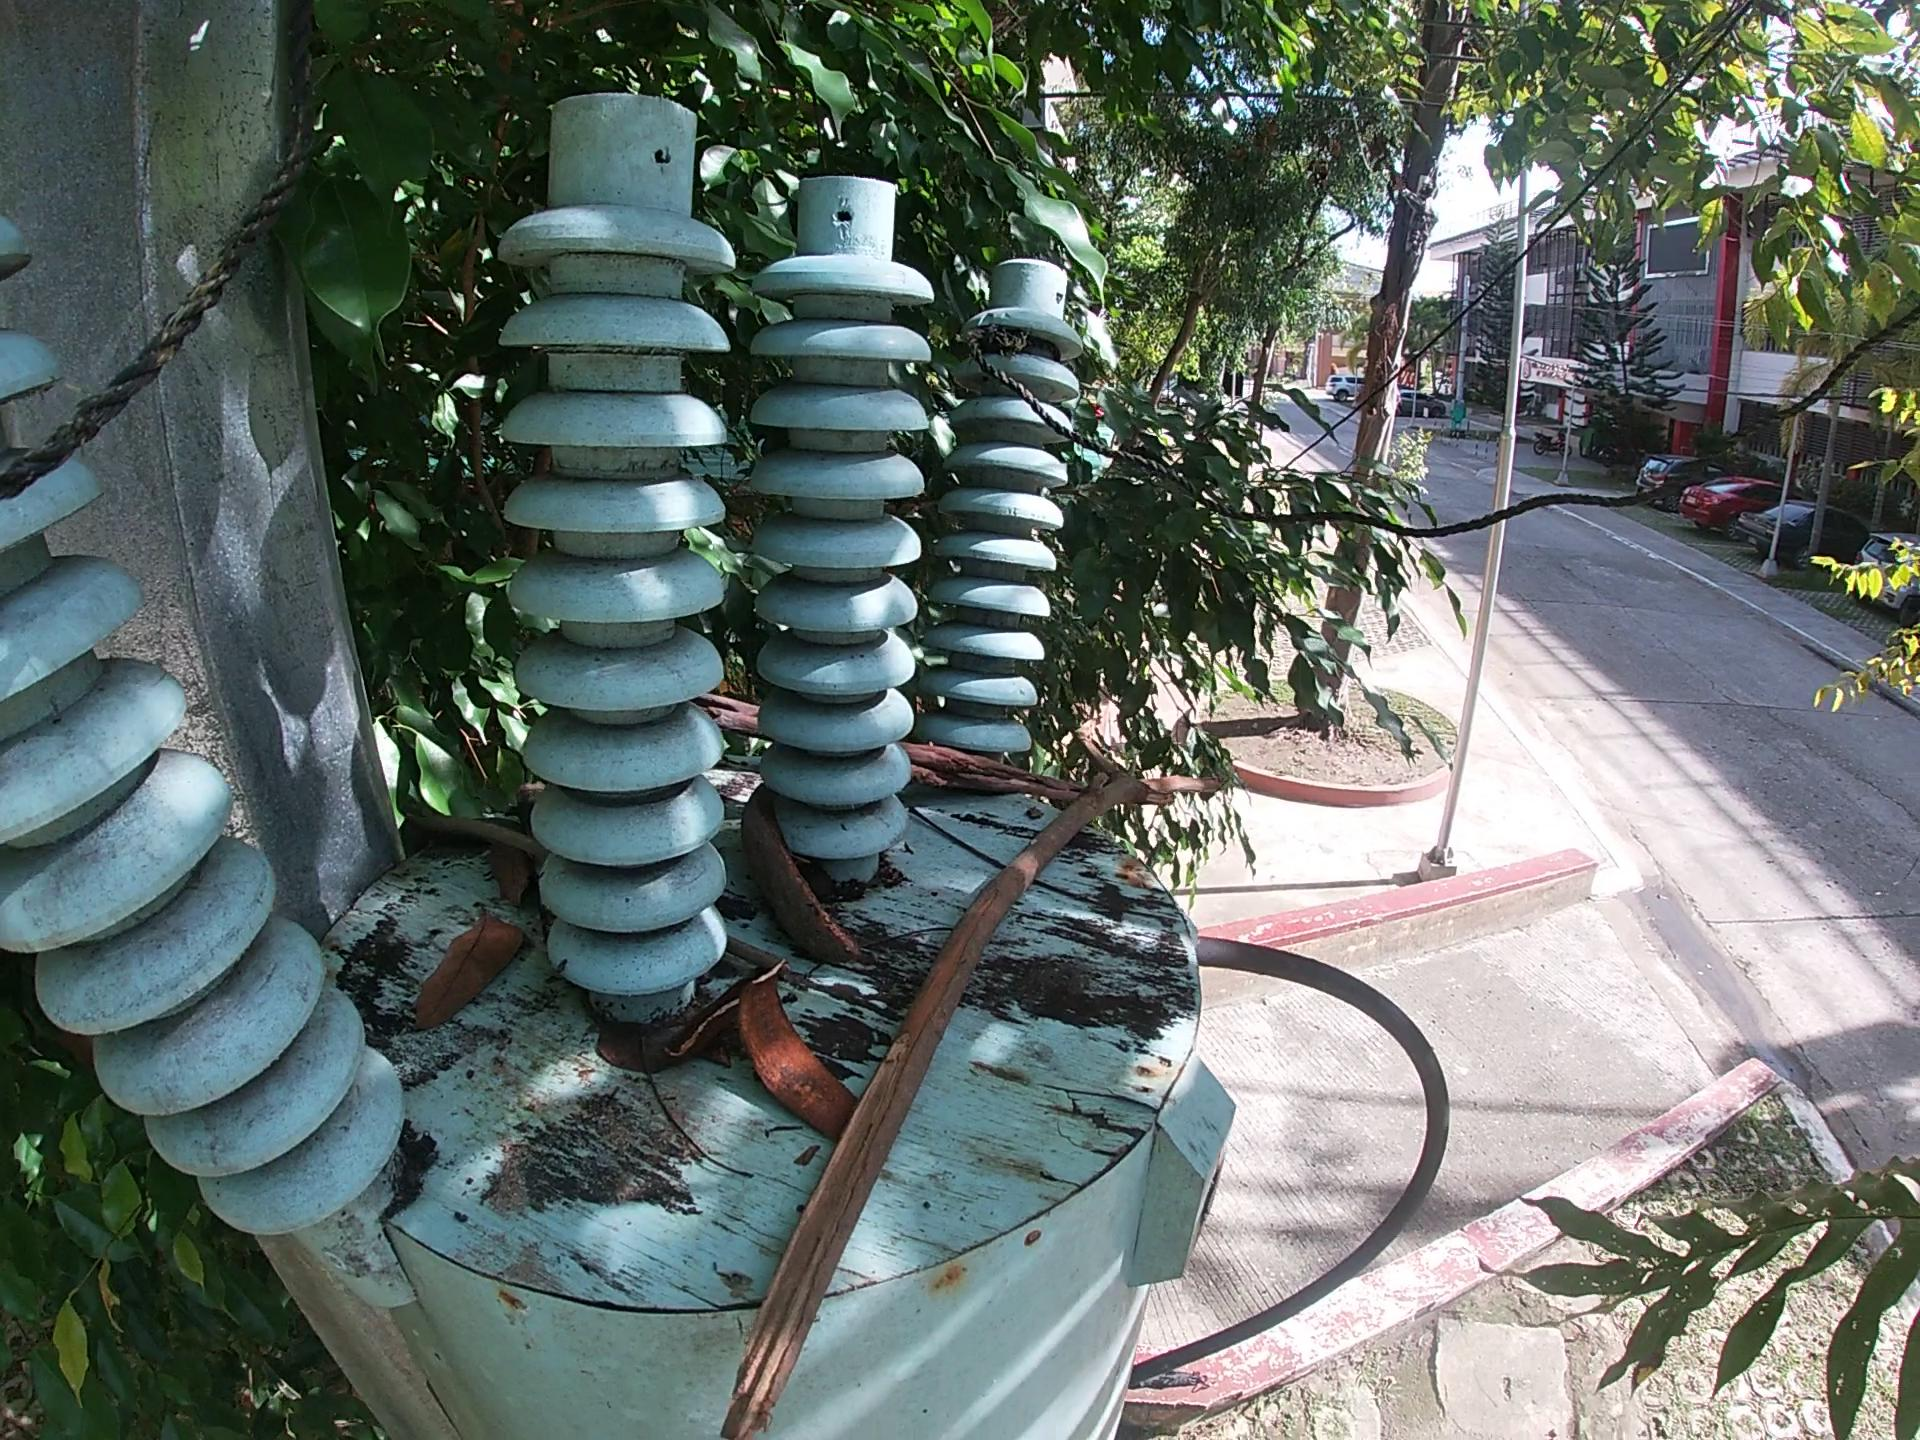leaf: (405, 898, 531, 1041), (588, 1013, 695, 1078), (485, 836, 535, 909)
mahogany fruit: (736, 782, 866, 970), (739, 957, 862, 1147)
tree branch: (709, 708, 1237, 1438), (689, 691, 1085, 805), (395, 793, 552, 867), (721, 936, 792, 980)
